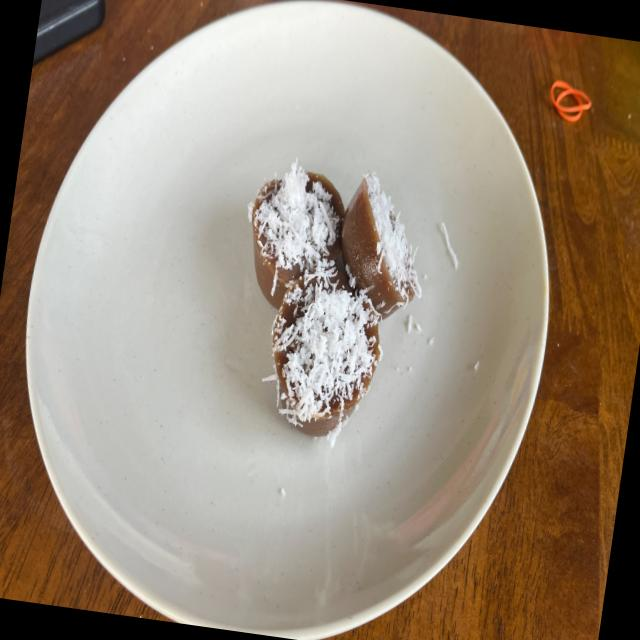Kuih lompang: (272, 266, 380, 437), (250, 162, 345, 307), (341, 173, 421, 318)
